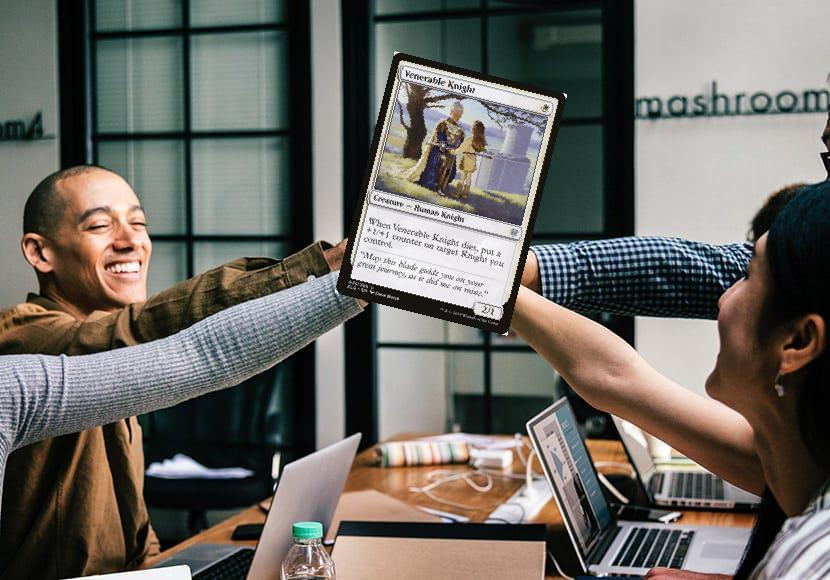mtgCard: (334, 51, 568, 336)
